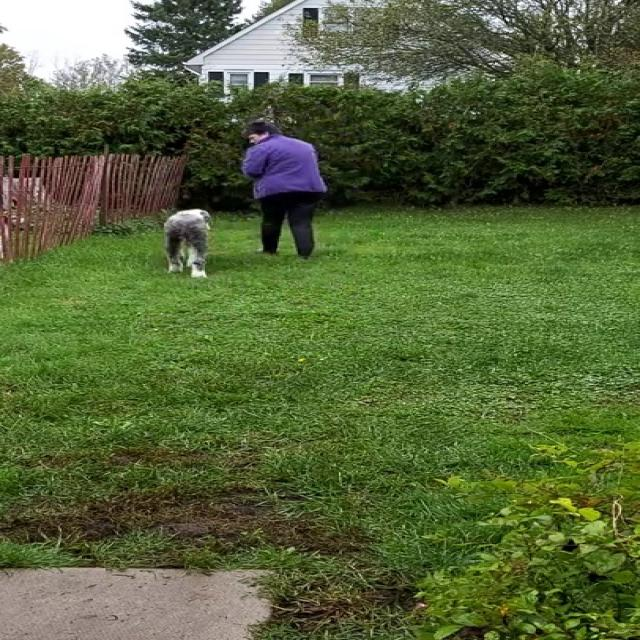Unleashed_Dog: (164, 186, 295, 281)
